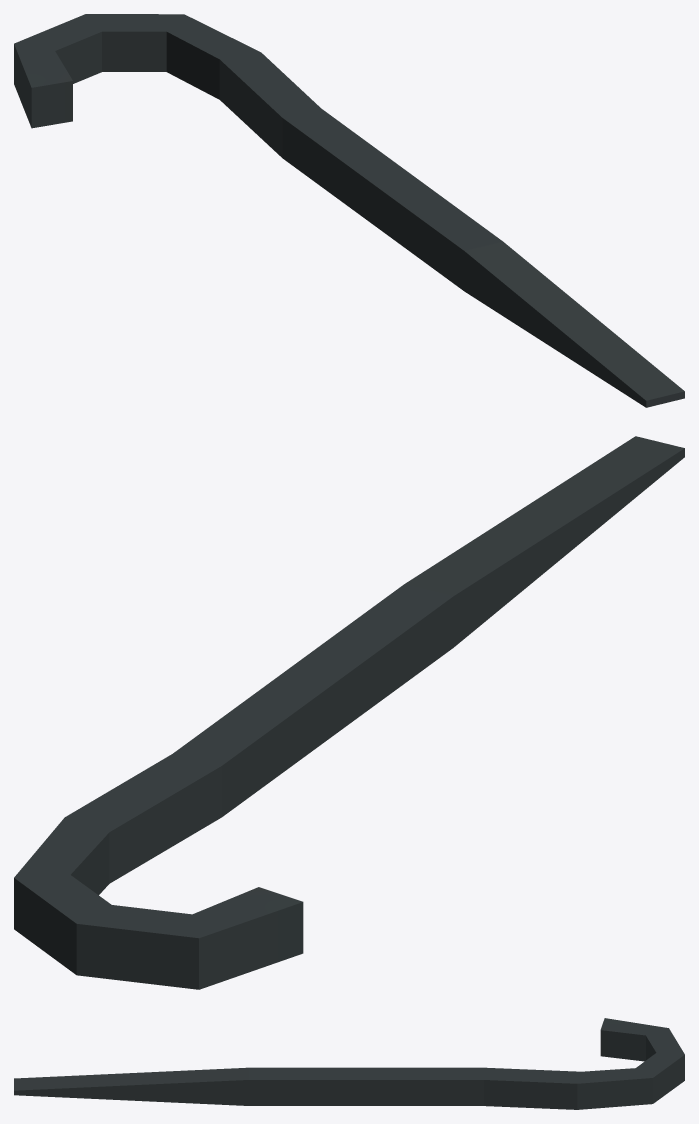
File: kingdom_SM_Prop_Forge_Lockpick_01.gltf
3 views of the same model, one above another, from view 1: azimuth 30°, elevation 25°; view 2: azimuth 150°, elevation 25°; view 3: azimuth 270°, elevation 25° (orthographic). The views are drawn at different scales.
Visible parts, largest first — view 1: SM_Prop_Forge_Lockpick_01; view 2: SM_Prop_Forge_Lockpick_01; view 3: SM_Prop_Forge_Lockpick_01.
Part boxes in pixels (bbox=[...]): SM_Prop_Forge_Lockpick_01: bbox=[14, 14, 684, 407]; SM_Prop_Forge_Lockpick_01: bbox=[14, 436, 684, 989]; SM_Prop_Forge_Lockpick_01: bbox=[14, 1018, 684, 1109].
Size of the model in its own units: 0.1424 by 0.0264 by 0.6137.
1 material, 1 textured.
